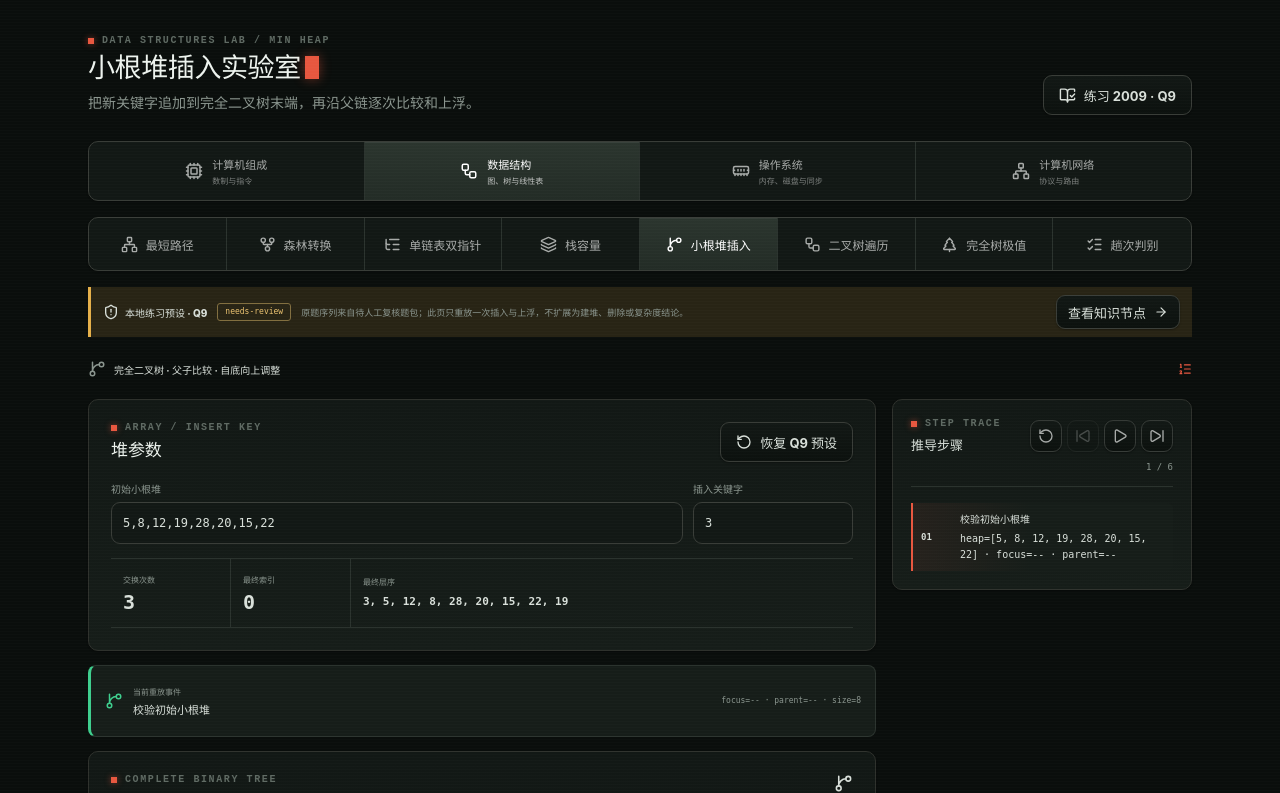
Test: MinHeapInsertLabPage › fails closed for an invalid initial heap and restores the Q9 preset
This screenshot has width=1280, height=793.
Replace the text in the field labelled "初始小根堆" with "8,5,12" at coordinates (397, 524), box [111,502,683,544]
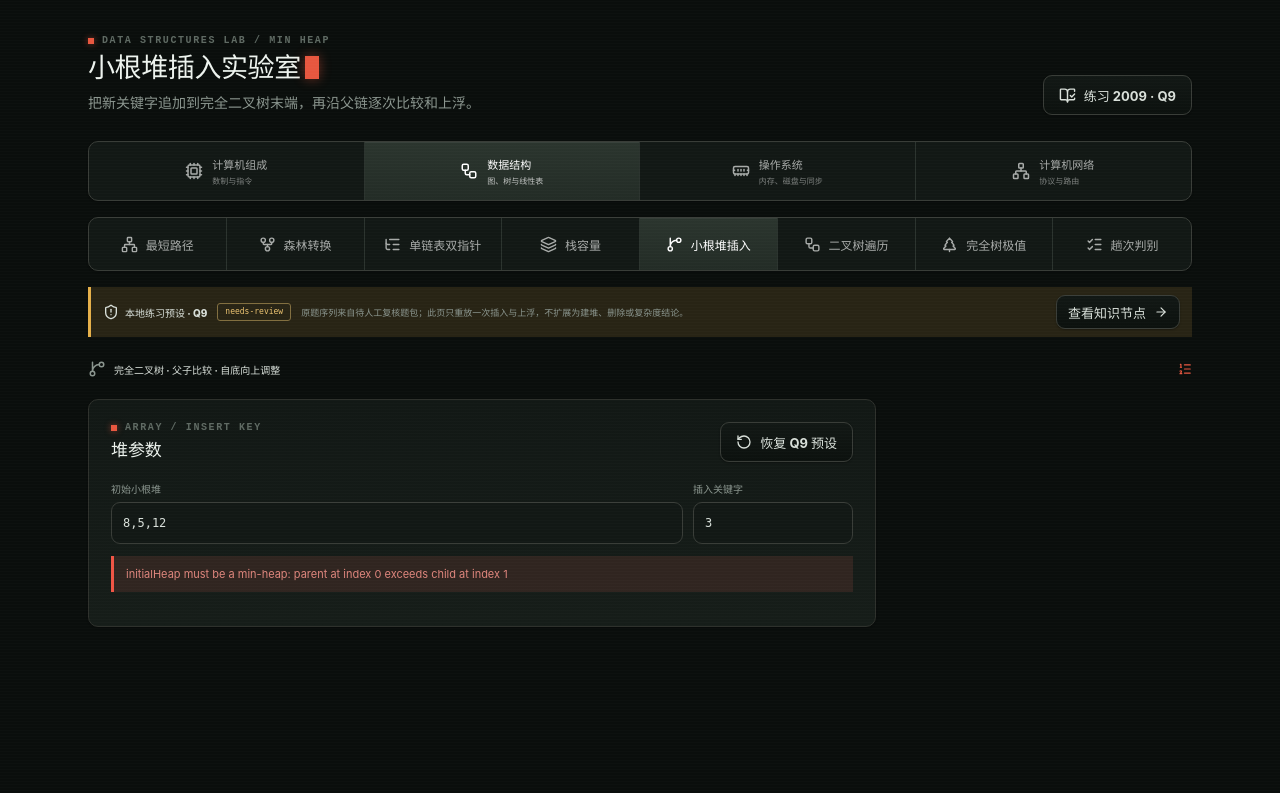
Check: the message reads "initialHeap must be a min-heap: parent at index 0 exceeds child at index 1", box [126,568,508,582]
Click the button "恢复 Q9 预设" at coordinates (787, 442), box [720,422,853,462]
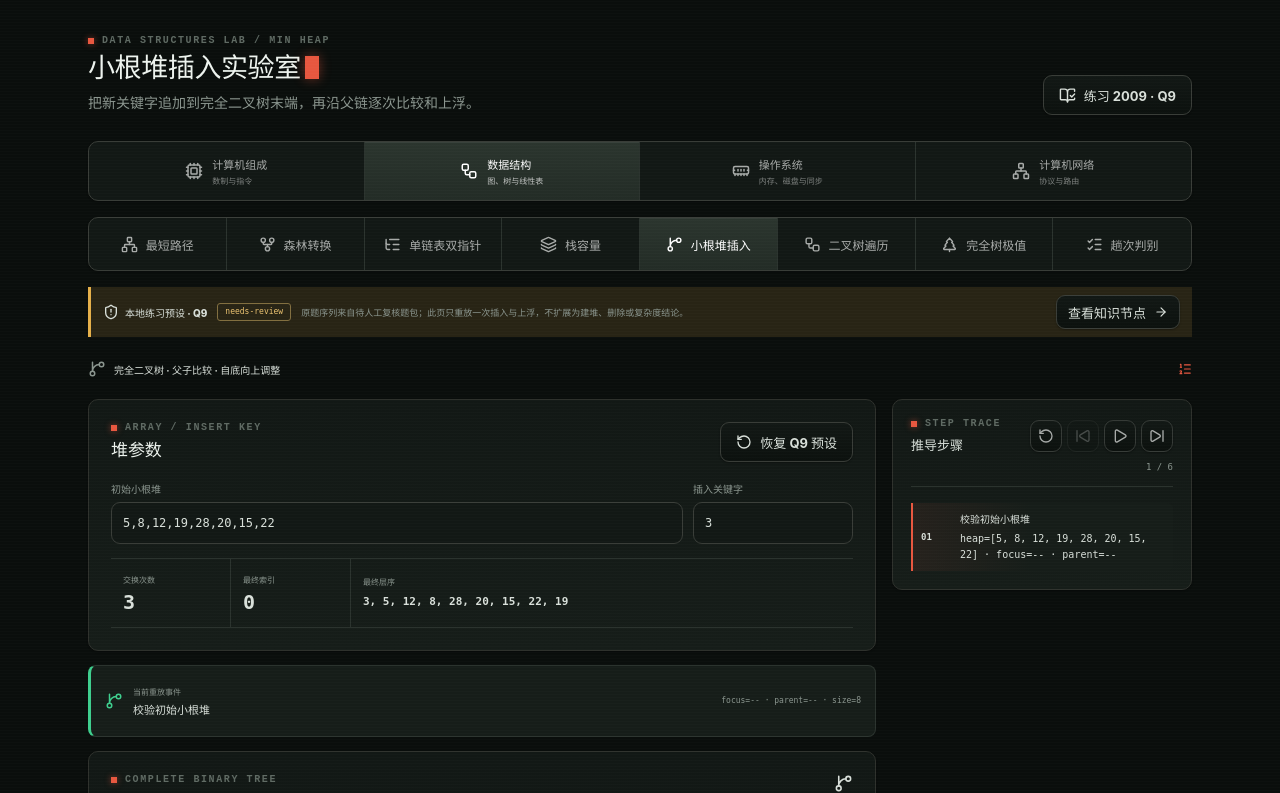
Check: the field labelled "初始小根堆" holds "5,8,12,19,28,20,15,22", box [111,502,683,544]
